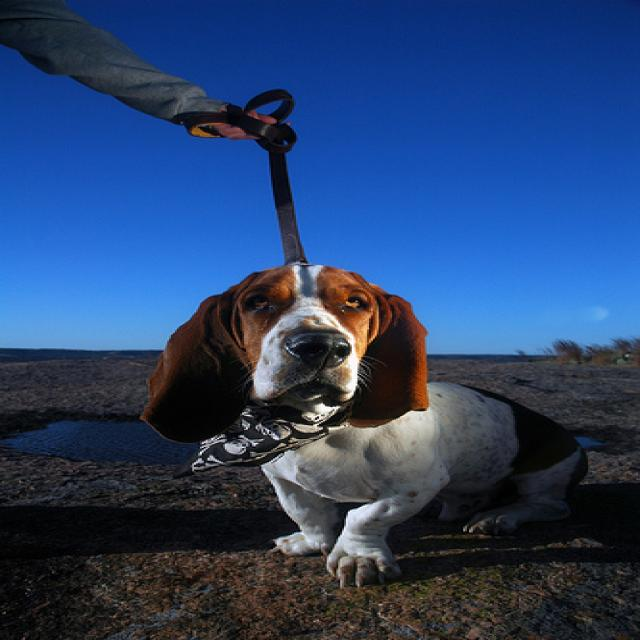dog-basset_hound: (131, 257, 636, 596)
